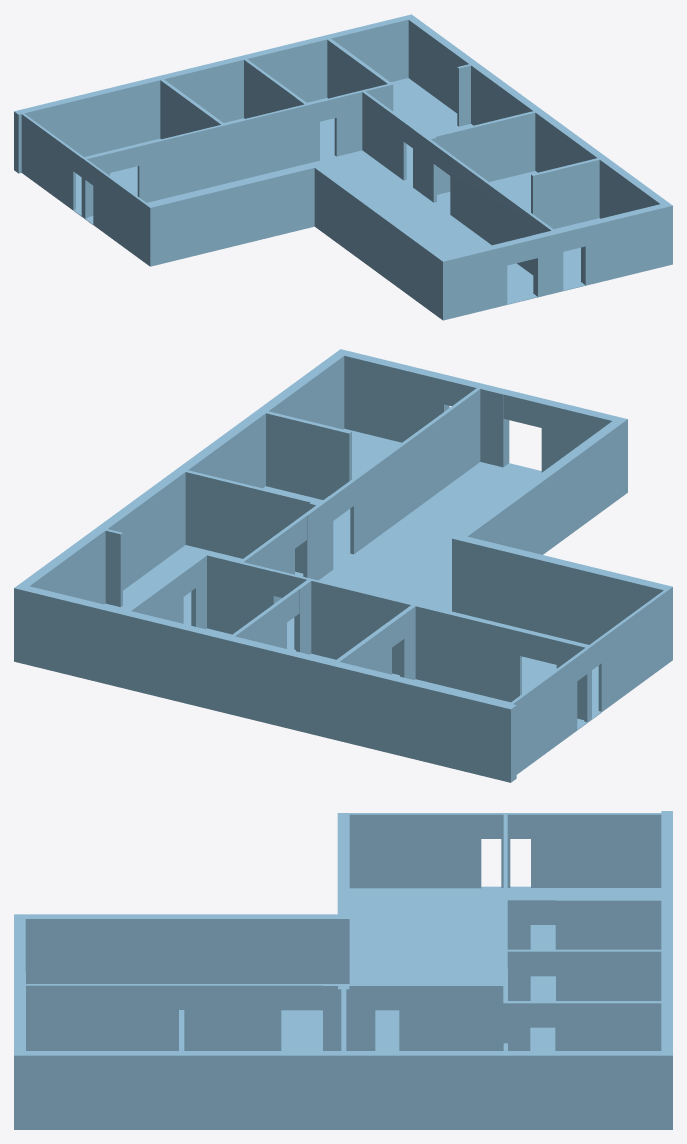
The model's file is control_lab_doorways.dae.
The picture shows the model from 3 angles, top to bottom: view 1: azimuth 30°, elevation 25°; view 2: azimuth 150°, elevation 25°; view 3: azimuth 270°, elevation 25°; orthographic projection. The views are drawn at different scales.
Visible parts, largest first — view 1: ID2; view 2: ID2; view 3: ID2.
Part boxes in pixels (bbox=[...]): ID2: bbox=[14, 14, 672, 320]; ID2: bbox=[14, 349, 672, 782]; ID2: bbox=[14, 811, 672, 1129].
Bounding box in the file's own units: 21.39 × 24.36 × 3.03.
